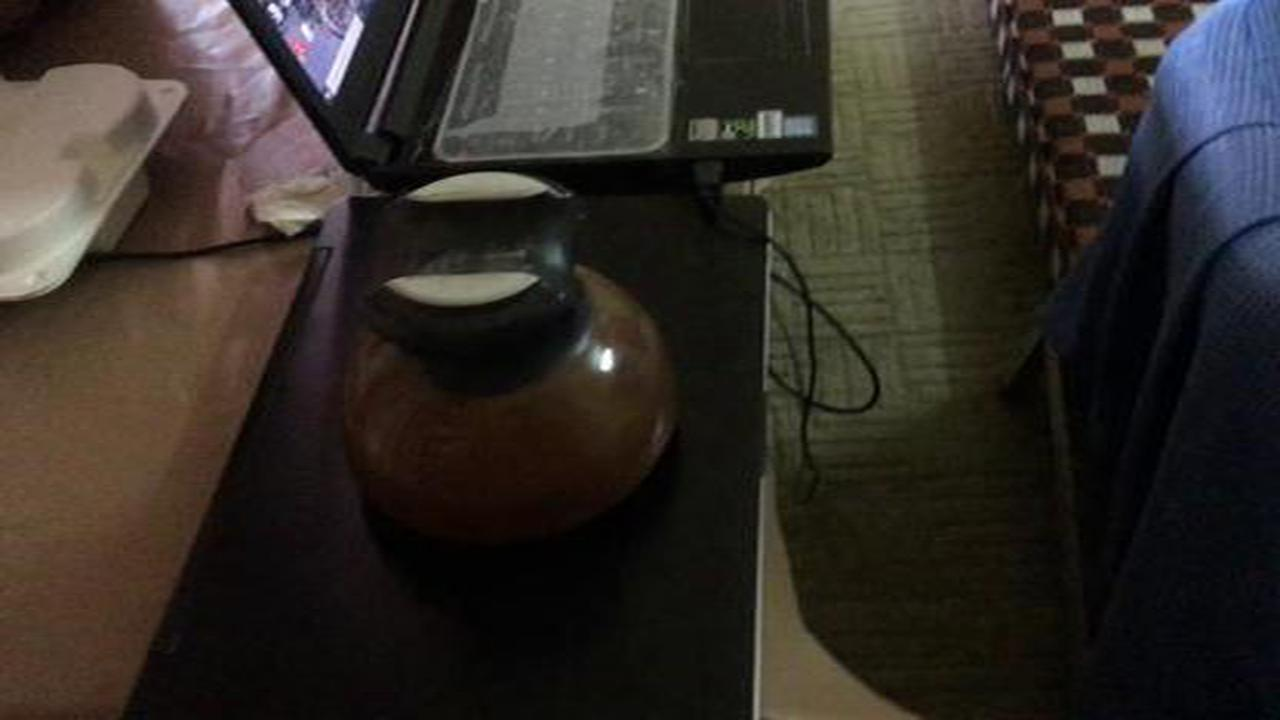insulator_pin: (311, 153, 711, 558)
